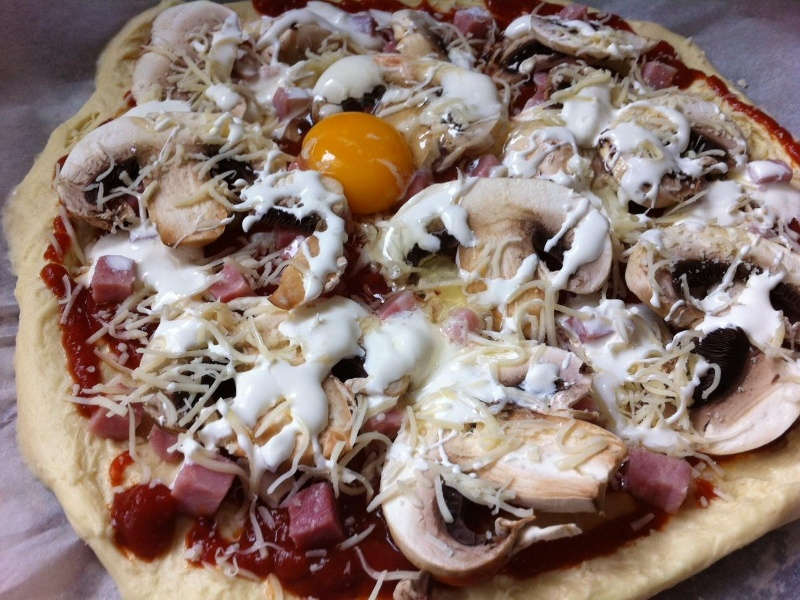champignon: (382, 337, 631, 586), (618, 204, 800, 466), (54, 94, 293, 253), (381, 173, 619, 320)
oeuf: (293, 108, 423, 223)
